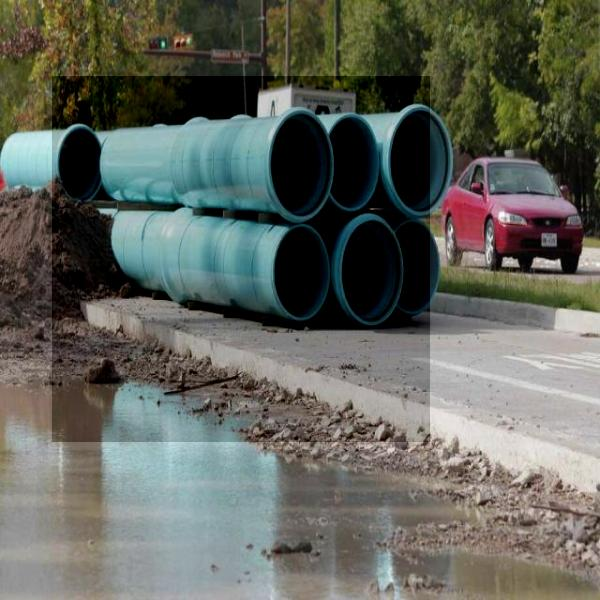crack: (52, 76, 430, 442)
